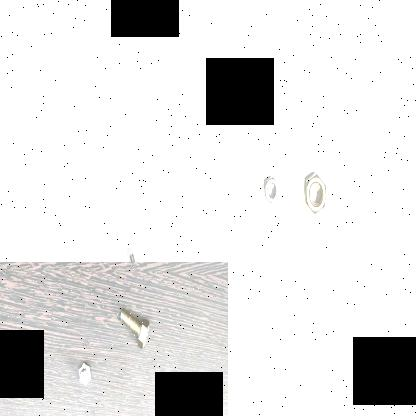Bolts: (116, 307, 153, 353), (76, 362, 94, 392), (124, 249, 150, 262)
NUTS: (301, 168, 334, 220), (261, 169, 281, 212)
